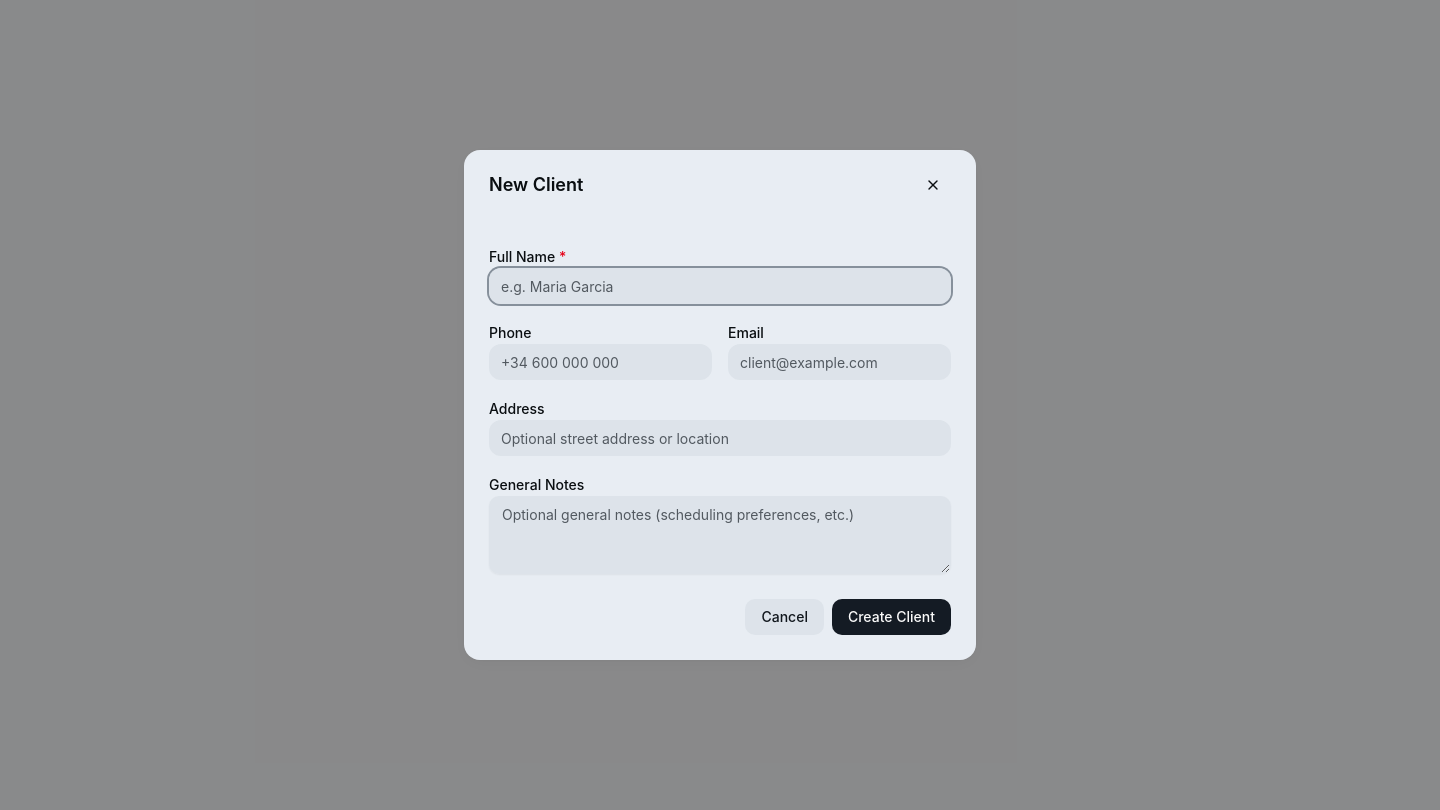
Test: ClientFormDialog › shows validation error when submitted with an empty name
The image size is (1440, 810).
Click the button "Create Client": point(892, 617) [832,599,951,635]
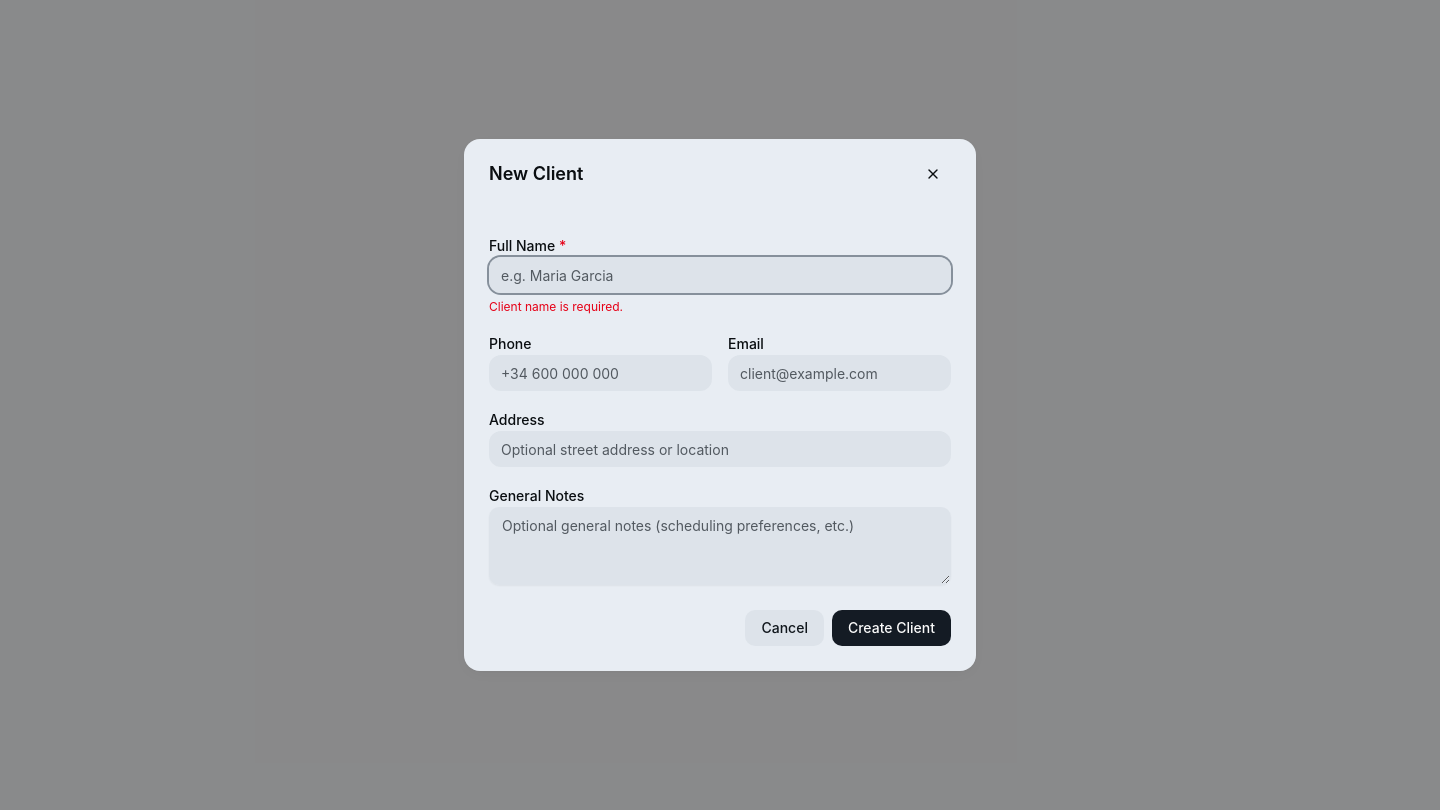
Expected: the text "Client name is required." is shown, [489,299,623,314]
